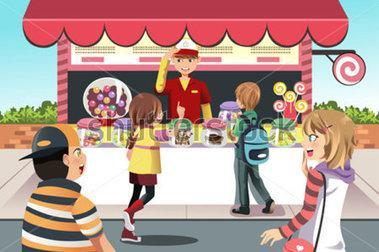person: (13, 119, 122, 250), (265, 110, 358, 246), (115, 92, 179, 246), (224, 80, 276, 216), (150, 36, 216, 127)
